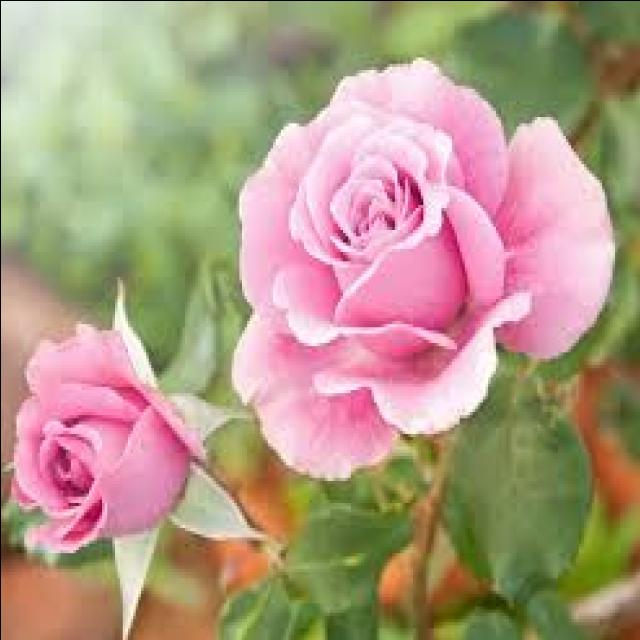rose: (200, 62, 632, 464)
